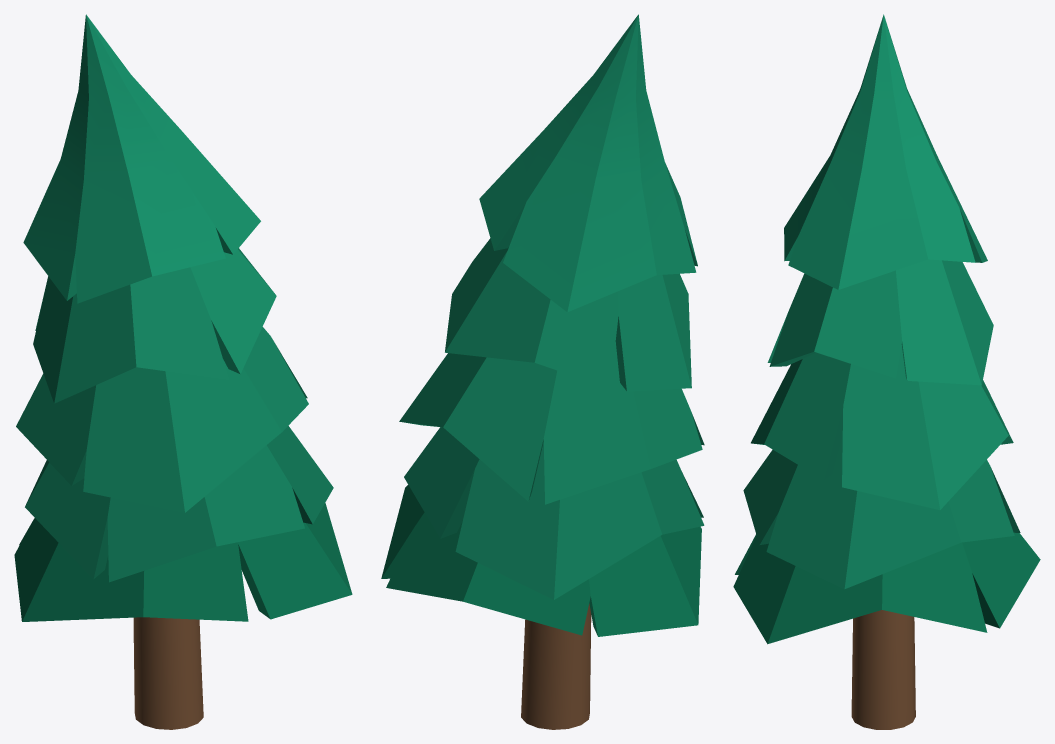
Rendered from Spruce_Turquoise_Thin_2.fbx.
3 renders of one model, left to right at view 1: azimuth 30°, elevation 25°; view 2: azimuth 150°, elevation 25°; view 3: azimuth 270°, elevation 25°, orthographic. The views are drawn at different scales.
Visible parts, largest first — view 1: Cylinder.1094, Cylinder.1095, Cylinder.1096, Cylinder.1098, Cylinder.1097, Cylinder.1099; view 2: Cylinder.1094, Cylinder.1095, Cylinder.1097, Cylinder.1096, Cylinder.1098, Cylinder.1099; view 3: Cylinder.1094, Cylinder.1095, Cylinder.1097, Cylinder.1096, Cylinder.1098, Cylinder.1099.
Part boxes in pixels (left/top/right/bottom): Cylinder.1094: left=23, top=14, right=260, bottom=303; Cylinder.1095: left=16, top=327, right=308, bottom=512; Cylinder.1096: left=33, top=248, right=276, bottom=403; Cylinder.1098: left=14, top=503, right=352, bottom=621; Cylinder.1097: left=25, top=426, right=333, bottom=582; Cylinder.1099: left=133, top=617, right=203, bottom=729; Cylinder.1094: left=479, top=14, right=697, bottom=312; Cylinder.1095: left=399, top=342, right=704, bottom=504; Cylinder.1097: left=404, top=427, right=704, bottom=599; Cylinder.1096: left=445, top=238, right=691, bottom=391; Cylinder.1098: left=381, top=485, right=701, bottom=636; Cylinder.1099: left=521, top=603, right=591, bottom=729; Cylinder.1094: left=784, top=14, right=987, bottom=289; Cylinder.1095: left=751, top=345, right=1013, bottom=509; Cylinder.1097: left=743, top=436, right=1020, bottom=589; Cylinder.1096: left=767, top=259, right=993, bottom=385; Cylinder.1098: left=733, top=532, right=1040, bottom=644; Cylinder.1099: left=851, top=610, right=915, bottom=729.
Bounding box in the file's own units: 244 × 568 × 238.
